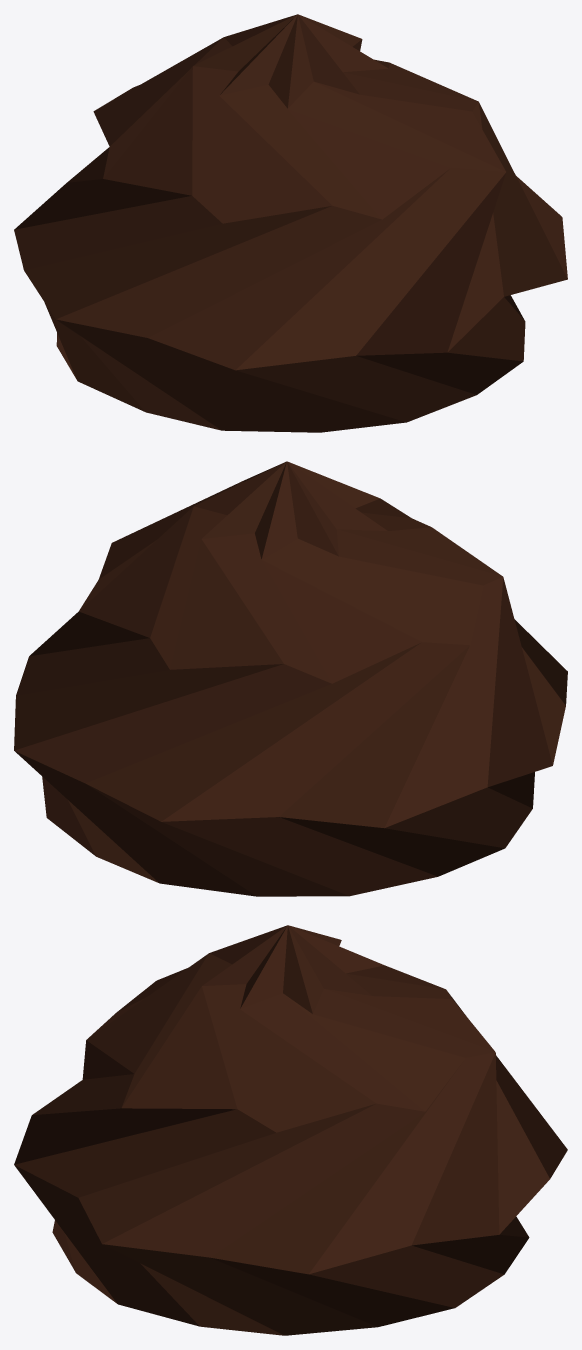
File: whippingchoko.fbx
The picture shows the model from 3 angles, top to bottom: view 1: azimuth 30°, elevation 25°; view 2: azimuth 150°, elevation 25°; view 3: azimuth 270°, elevation 25°; orthographic projection. The views are drawn at different scales.
Parts seen in each view (by area): view 1: 円; view 2: 円; view 3: 円.
Boxes of the visible parts, x1,y1,x2,y2 form: 円: (14,14,567,432); 円: (14,461,567,896); 円: (14,925,567,1335).
Bounding box in the file's own units: 238 × 149 × 238.
